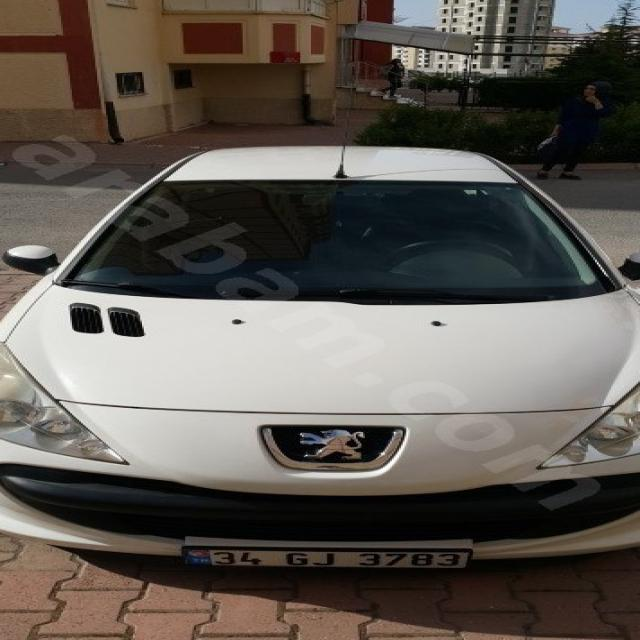license_plate: (183, 549, 470, 568)
